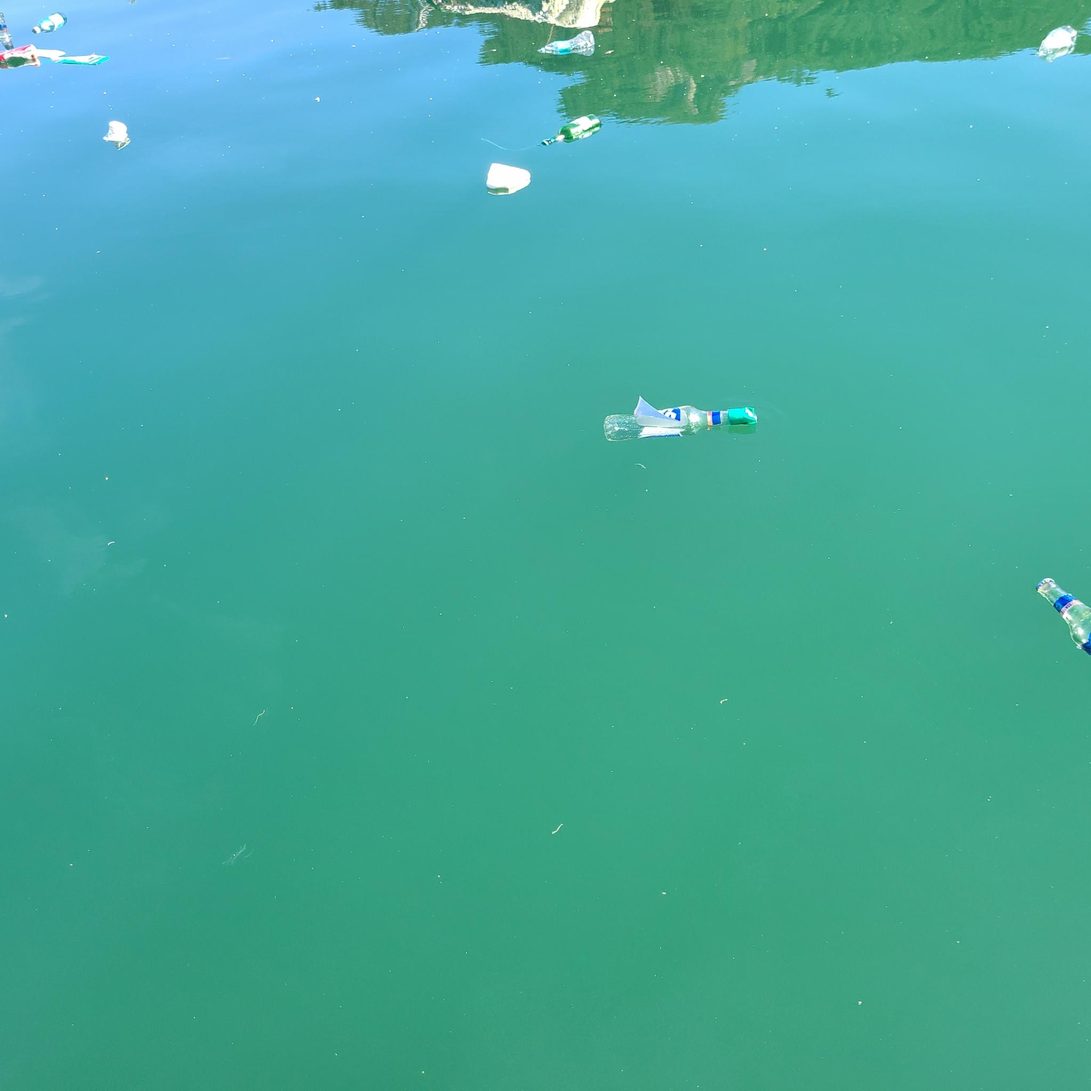sampah_terapung: (604, 406, 758, 442), (1036, 578, 1091, 656), (542, 114, 601, 147), (539, 31, 596, 55), (486, 164, 532, 190), (1037, 26, 1078, 55), (33, 12, 68, 36), (1, 45, 38, 63), (104, 121, 128, 142), (1, 12, 12, 46)
